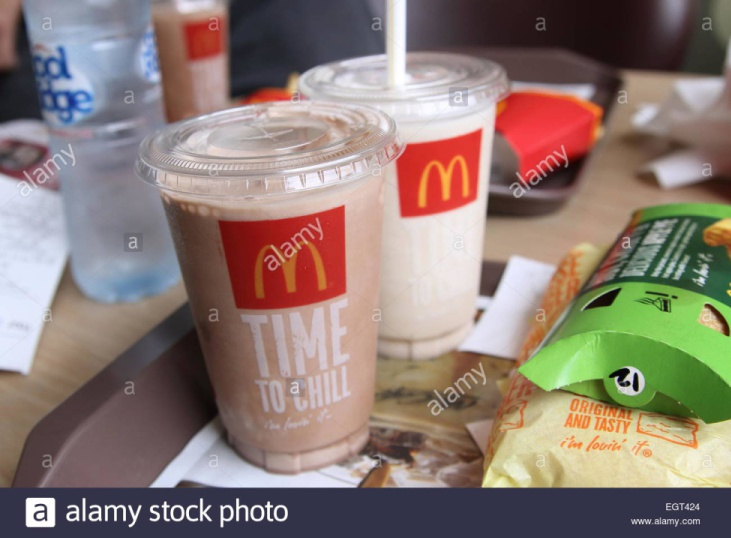mcdonalds: (249, 238, 330, 302), (413, 153, 477, 210)
